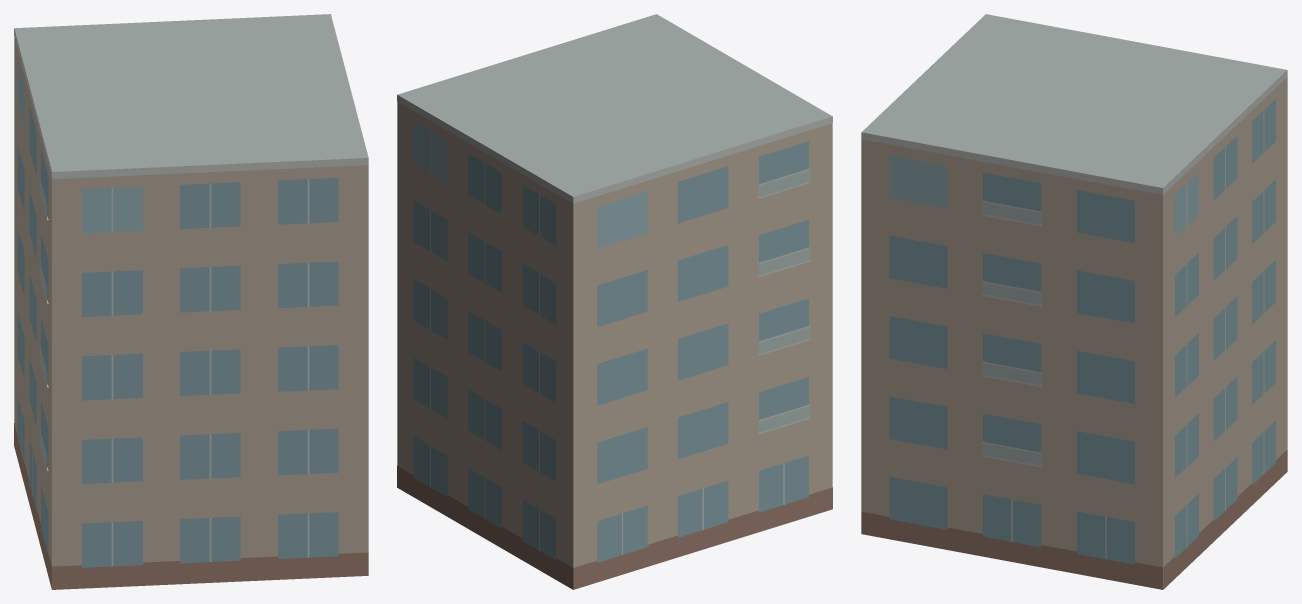
The model's file is survey-upis-32532830.glb.
3 views of the same model, side by side, from view 1: azimuth 30°, elevation 25°; view 2: azimuth 150°, elevation 25°; view 3: azimuth 270°, elevation 25° (orthographic). The views are drawn at different scales.
Parts seen in each view (by area): view 1: survey-upis-32532830.tmp; view 2: survey-upis-32532830.tmp; view 3: survey-upis-32532830.tmp.
Part boxes in pixels (left/top/right/bottom): survey-upis-32532830.tmp: left=14, top=14, right=368, bottom=589; survey-upis-32532830.tmp: left=397, top=14, right=832, bottom=589; survey-upis-32532830.tmp: left=861, top=14, right=1287, bottom=589.
Bounding box in the file's own units: 13.11 × 14.1 × 13.56.
